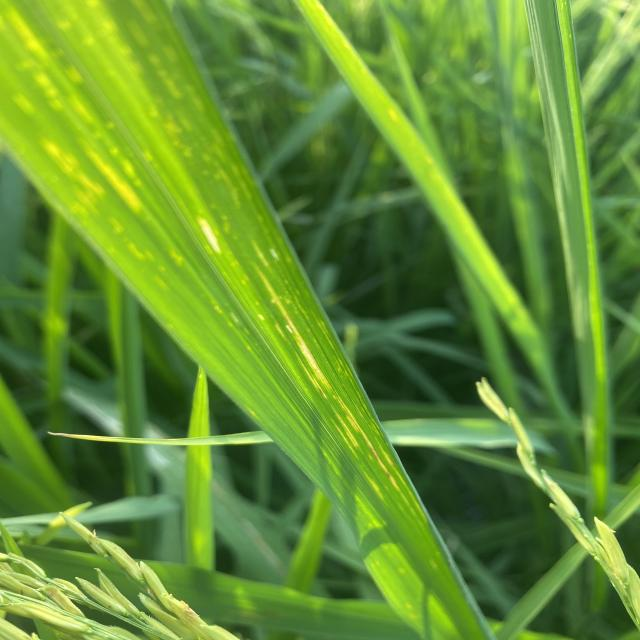Dom soc vi khuan: (259, 271, 331, 390), (333, 395, 400, 489), (196, 218, 221, 252), (335, 413, 359, 447), (335, 425, 357, 458), (363, 471, 385, 501), (258, 314, 265, 320)
